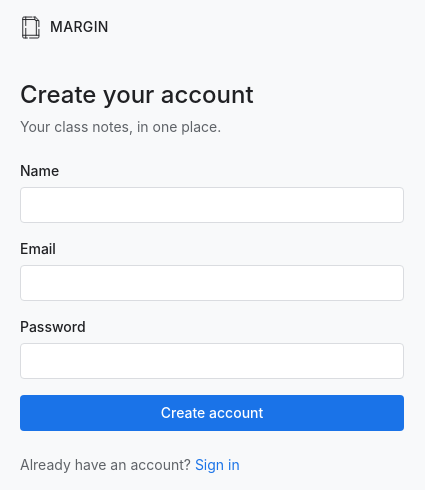
it: SignUpPage › tells the user to check their email when confirmation is pending
Type "Test Student" into the field labelled "Name" at {"x": 212, "y": 205}, box [20,187,404,223]
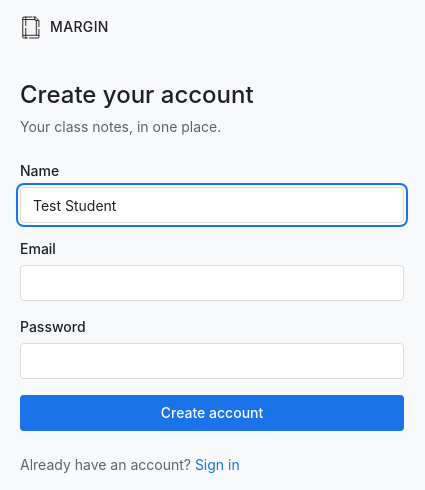
Type "student@example.com" into the field labelled "Email" at {"x": 212, "y": 283}, box [20,265,404,301]
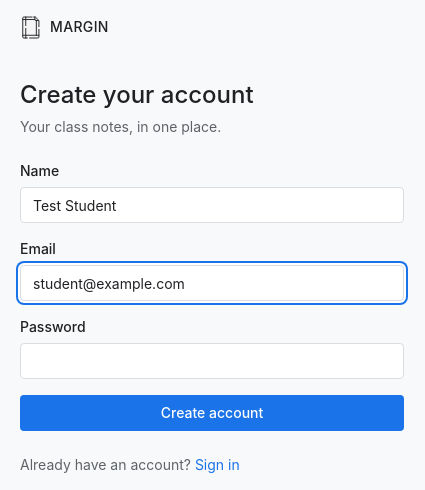
Type "TestPassword123!" into the password field labelled "Password" at {"x": 212, "y": 361}, box [20,343,404,379]
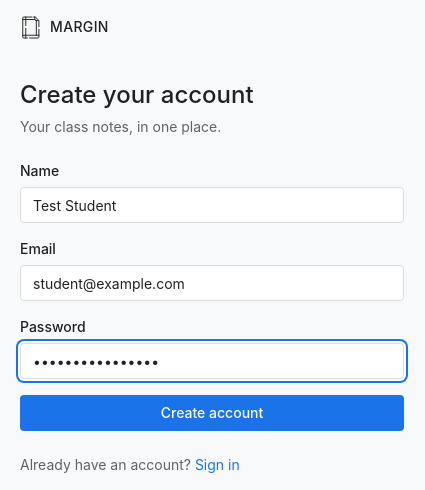
Click the button "Create account" at {"x": 212, "y": 413}, box [20,395,404,431]
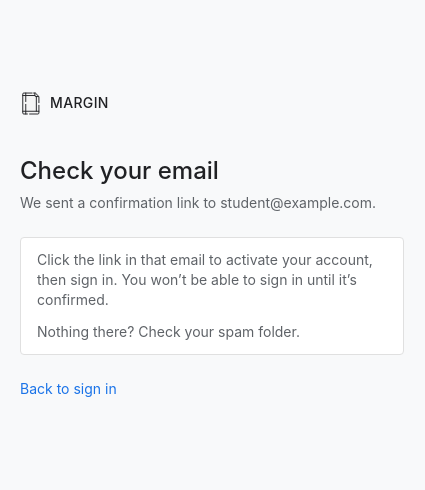
Expected: the heading "Check your email" is shown, [20,156,219,185]
Expected: the text "We sent a confirmation link to student@example.com." is shown, [20,193,404,213]
